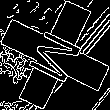M_SE: (22, 23, 88, 87)
